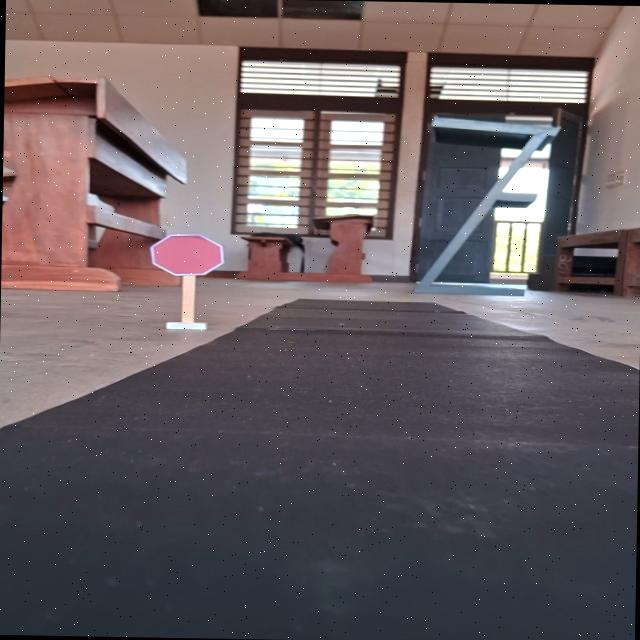Stop: (147, 232, 225, 276)
